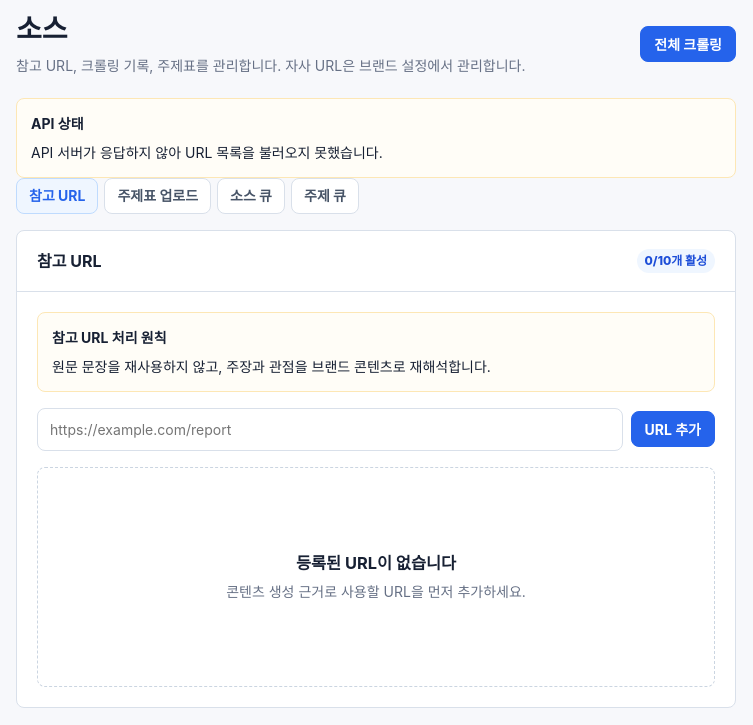
SourcesPage › does not show sample URL or topic rows when API loading fails
Expected: the text "API 서버가 응답하지 않아 URL 목록을 불러오지 못했습니다." is shown, [31,144,383,161]
Click the tab "주제 큐".
click(325, 196)  # box [291,178,359,214]
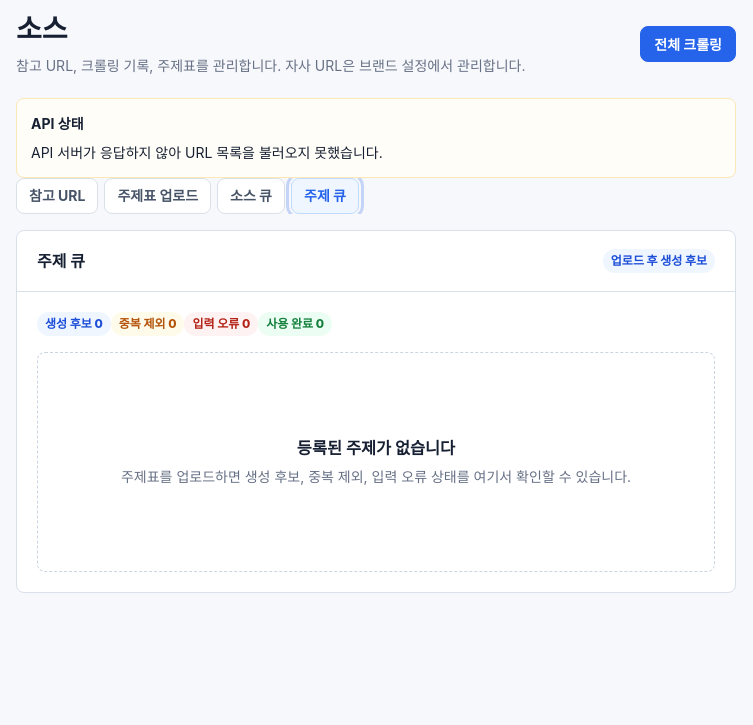
Result: the heading "등록된 주제가 없습니다" is shown at [297,438,455,458]
